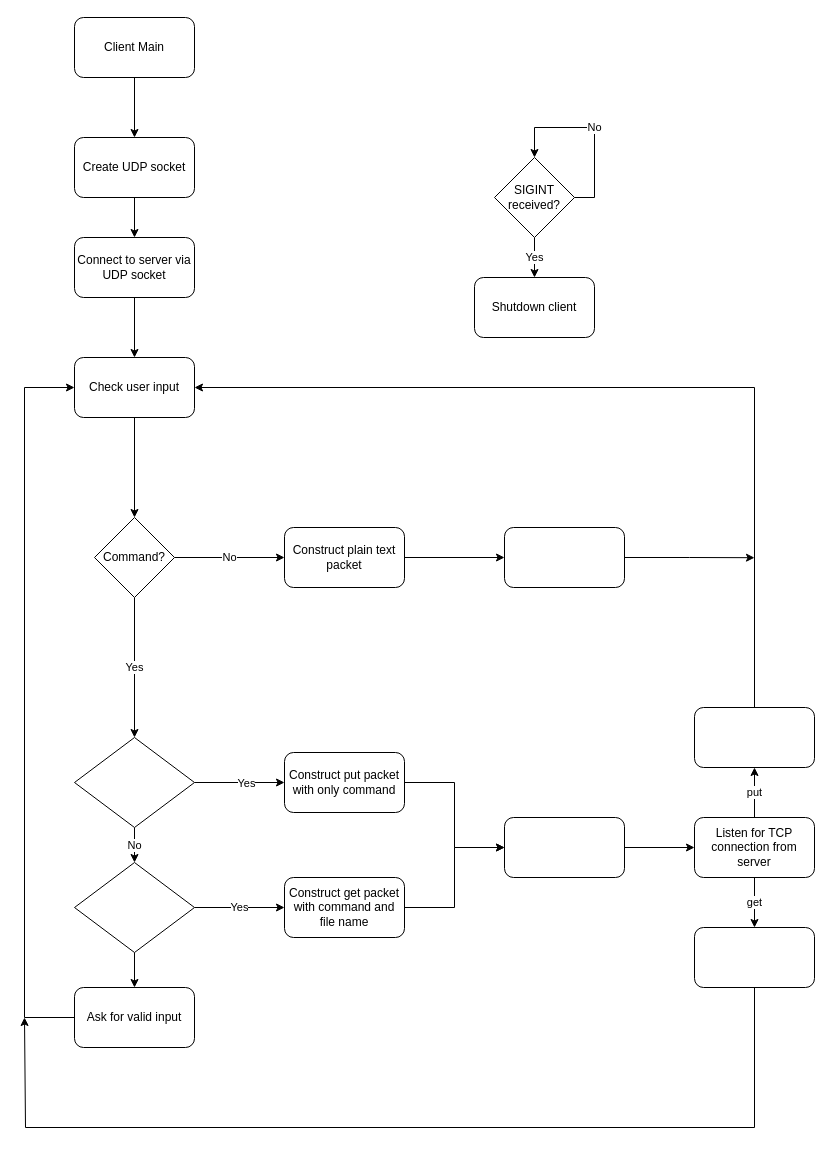
Image size: 832x1153. Some labels were removed from this diagram. Here are the shapes that lost their labels. From the top down, the centre of each, then its label:
pixel 564 557: Send "plain text" packet via UDP socket
pixel 754 737: Send file name and file contents via TCP connection
pixel 134 782: put?
pixel 564 847: Send "command" packet via UDP socket
pixel 134 907: get?
pixel 754 957: Receive file contents via TCP connection
